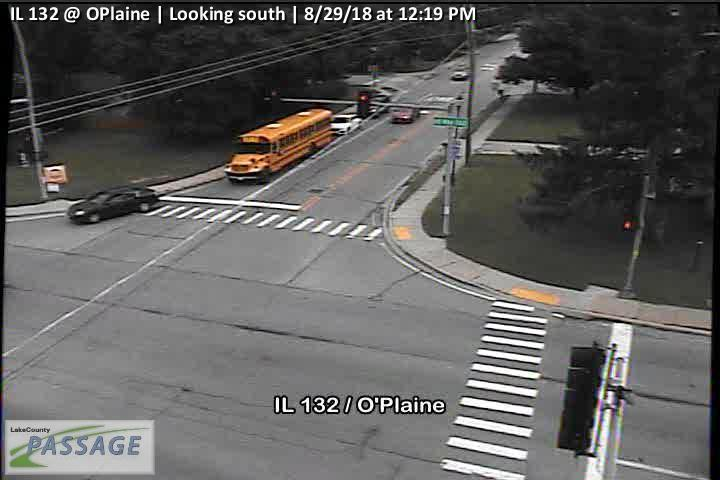Bus: (224, 109, 332, 184)
SUV: (331, 114, 362, 135)
Sedan: (68, 184, 160, 221), (391, 103, 420, 123), (450, 64, 467, 81)
